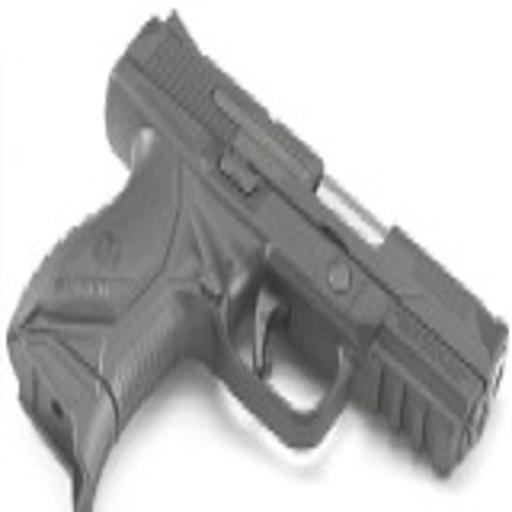Handgun: (5, 7, 507, 511)
